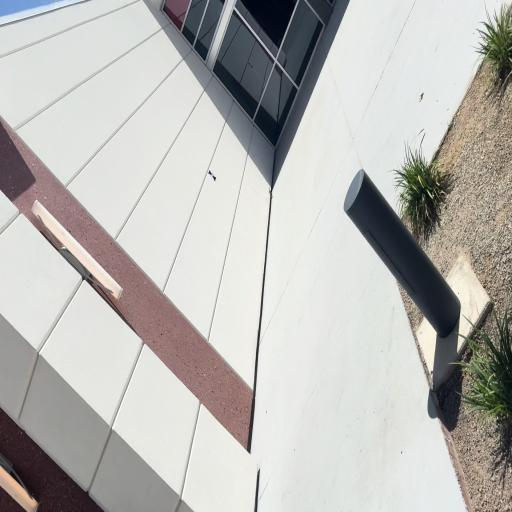target7: (208, 168, 217, 182)
